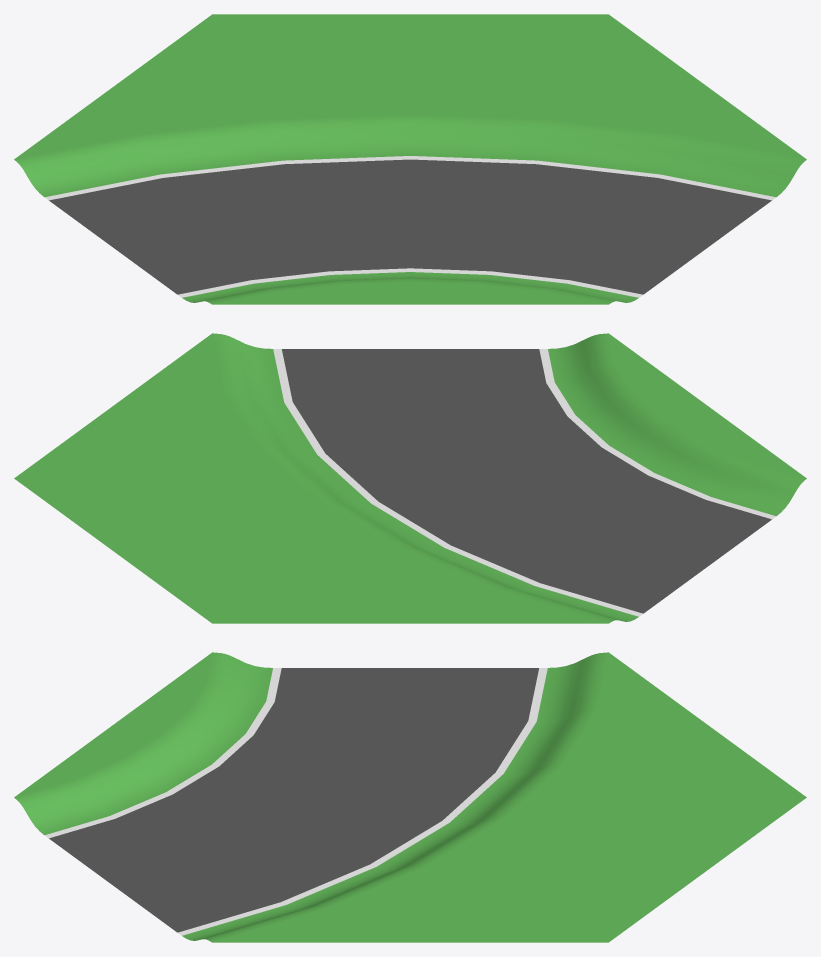
The model's file is Track_Flat_Curve_Gentle.obj.
3 views of the same model, one above another, from view 1: azimuth 30°, elevation 25°; view 2: azimuth 150°, elevation 25°; view 3: azimuth 270°, elevation 25° (orthographic).
Parts seen in each view (by area): view 1: object1.008; view 2: object1.008; view 3: object1.008.
Boxes of the visible parts, bbox=[...] form: object1.008: bbox=[14, 14, 806, 304]; object1.008: bbox=[14, 333, 806, 623]; object1.008: bbox=[14, 652, 806, 942].
Size of the model in its own units: 1 by 0.025 by 1.15.
